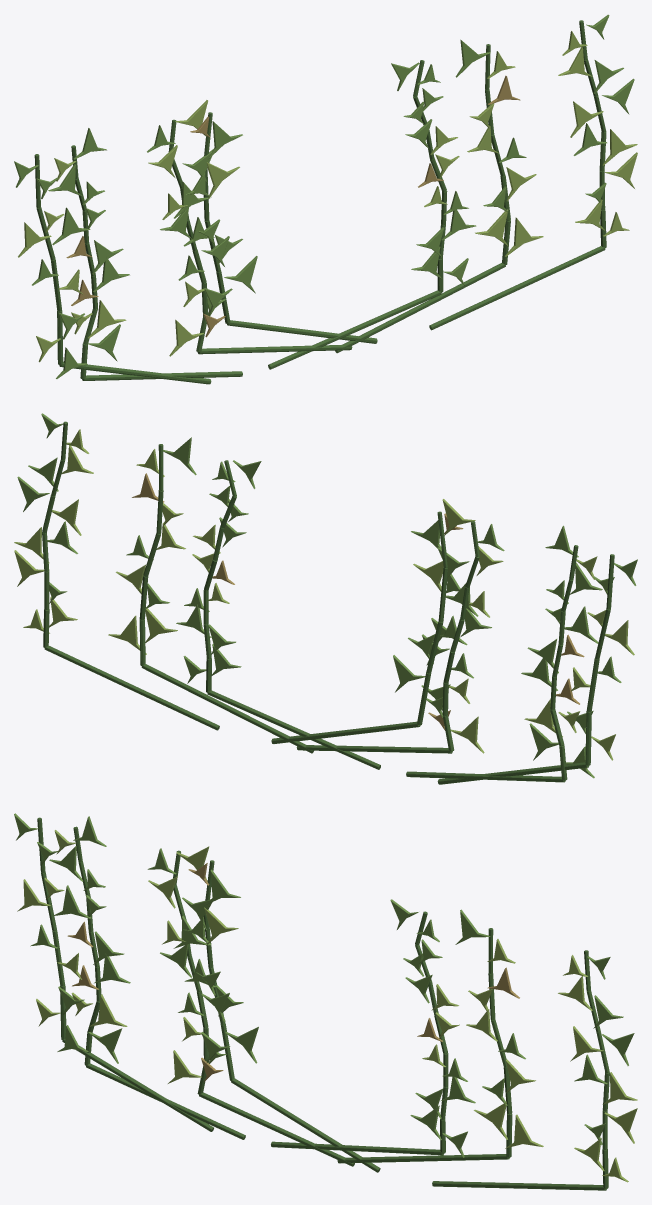
File: runtime.glb
3 views of the same model, one above another, from view 1: azimuth 30°, elevation 25°; view 2: azimuth 150°, elevation 25°; view 3: azimuth 330°, elevation 25° (orthographic).
Visible parts, largest first — view 1: falkenwacht-wall-ivy-v05_nocol; view 2: falkenwacht-wall-ivy-v05_nocol; view 3: falkenwacht-wall-ivy-v05_nocol.
Boxes of the visible parts, x1,y1,x2,y2 form: falkenwacht-wall-ivy-v05_nocol: (14, 14, 637, 384); falkenwacht-wall-ivy-v05_nocol: (14, 413, 637, 784); falkenwacht-wall-ivy-v05_nocol: (14, 813, 637, 1190).
Size of the model in its own units: 5.64 by 2.49 by 0.086.
